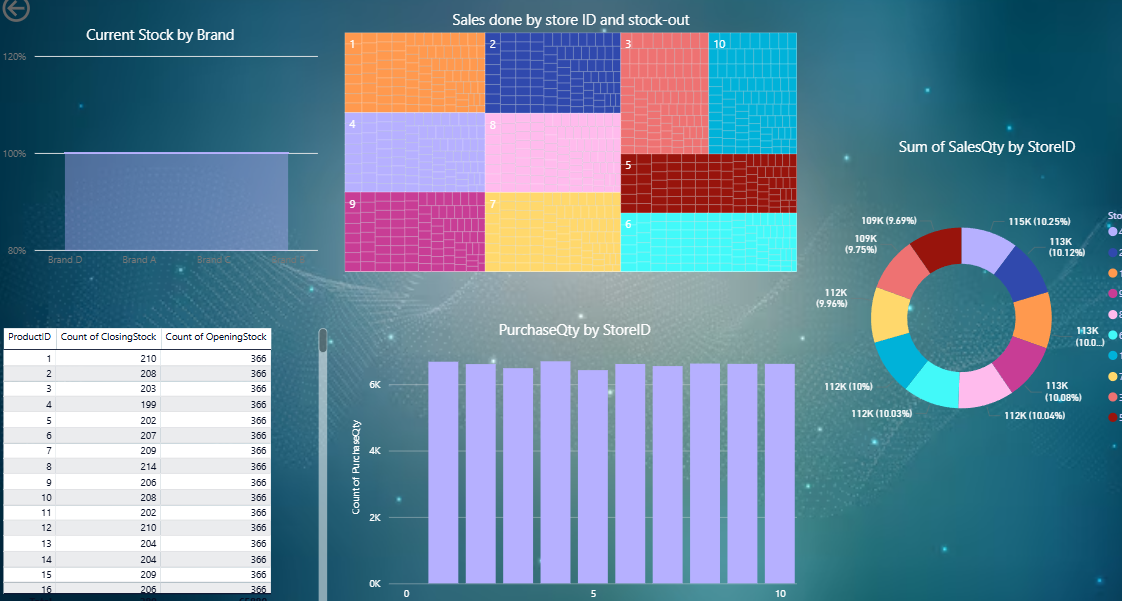

The page's visual inventory and layout, read from the dashboard file:
{"tool":"powerbi","page":{"name":"Inventory & Stock","canvas":[1280,720],"ordinal":3},"visuals":[{"type":"hundredPercentStackedAreaChart","fields":{"Y":["Measure.Current Stock"],"Category":["Product_Dim.Brand"]},"box":[0,37.1,356.3,276.5],"z":0},{"type":"tableEx","fields":{"Values":["Inventory_Fact.ProductID","Inventory_Fact.ClosingStock","CountNonNull(Inventory_Fact.OpeningStock)"]},"box":[0,366.3,366.3,317.9],"z":1000},{"type":"actionButton","box":[0,0,100,40],"z":2000},{"type":"treemap","title":"Sales done by store ID and stock-out","fields":{"Group":["Inventory_Fact.StoreID"],"Details":["Inventory_Fact.Date"],"Values":["Sum(Inventory_Fact.SalesQty)"]},"box":[376.3,20,506,293.6],"z":3000},{"type":"lineStackedColumnComboChart","title":" PurchaseQty by StoreID","fields":{"Category":["Inventory_Fact.StoreID"],"Y":["CountNonNull(Inventory_Fact.PurchaseQty)"]},"box":[384.9,360.6,497.5,329.3],"z":4000},{"type":"donutChart","fields":{"Y":["Sum(Inventory_Fact.SalesQty)"],"Category":["Inventory_Fact.StoreID"]},"box":[892.3,161.1,387.7,377.7],"z":5000}]}

Visuals, with their boxes on the page's 1280x720 design canvas (x1, y1, x2, y2). These are canvas units, not pixel positions in the 1122x601 screenshot, which may show the page scaled, cropped or inside an application window:
hundredPercentStackedAreaChart - Measure.Current Stock x Product_Dim.Brand: {"left": 0, "top": 37, "right": 356, "bottom": 314}
tableEx - Inventory_Fact.ProductID x Inventory_Fact.ClosingStock: {"left": 0, "top": 366, "right": 366, "bottom": 684}
actionButton: {"left": 0, "top": 0, "right": 100, "bottom": 40}
"Sales done by store ID and stock-out" treemap: {"left": 376, "top": 20, "right": 882, "bottom": 314}
" PurchaseQty by StoreID" lineStackedColumnComboChart: {"left": 385, "top": 361, "right": 882, "bottom": 690}
donutChart - Sum(Inventory_Fact.SalesQty) x Inventory_Fact.StoreID: {"left": 892, "top": 161, "right": 1280, "bottom": 539}
